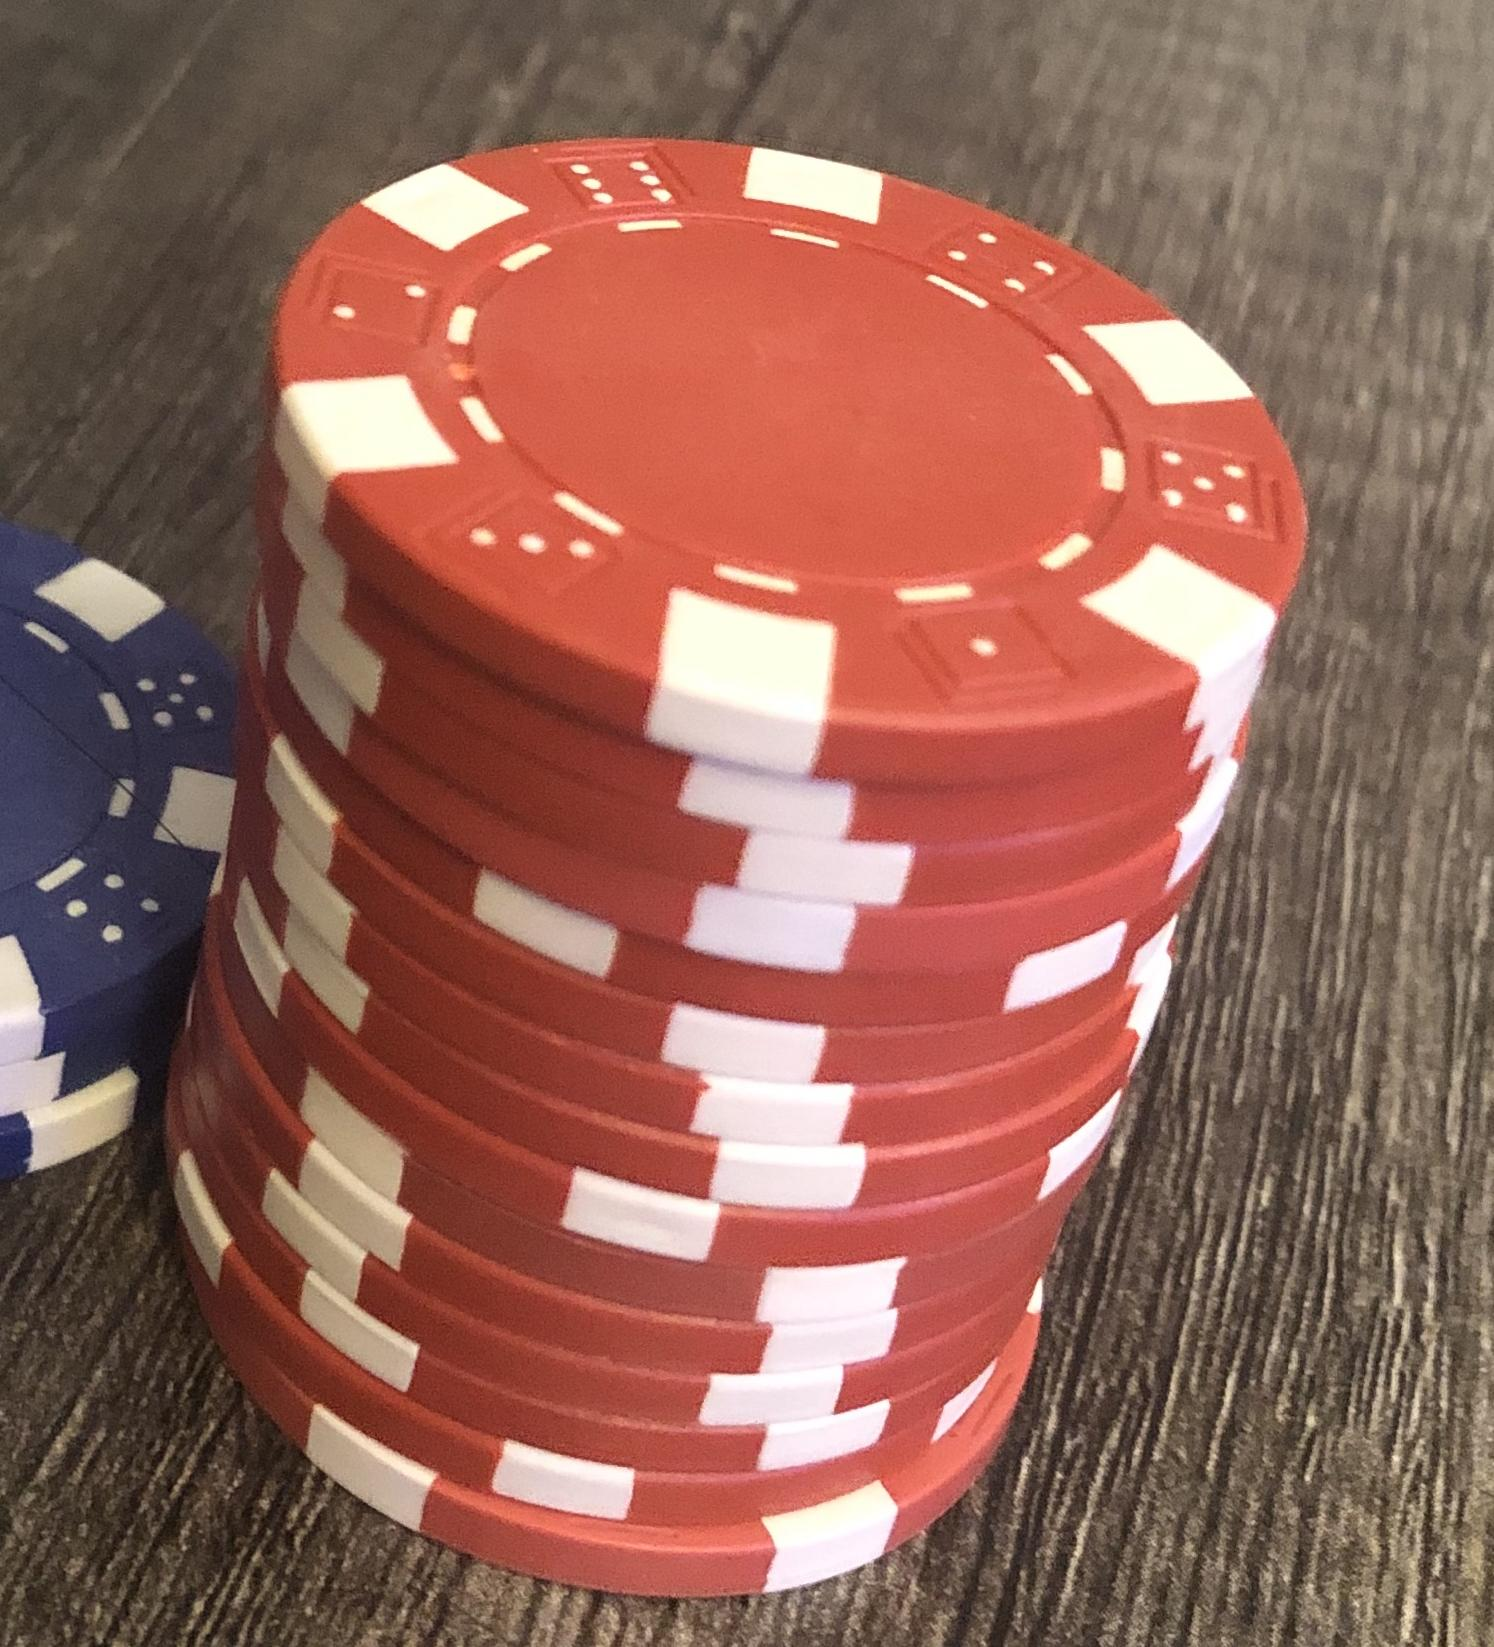Chip: (1, 1, 1494, 1647)
